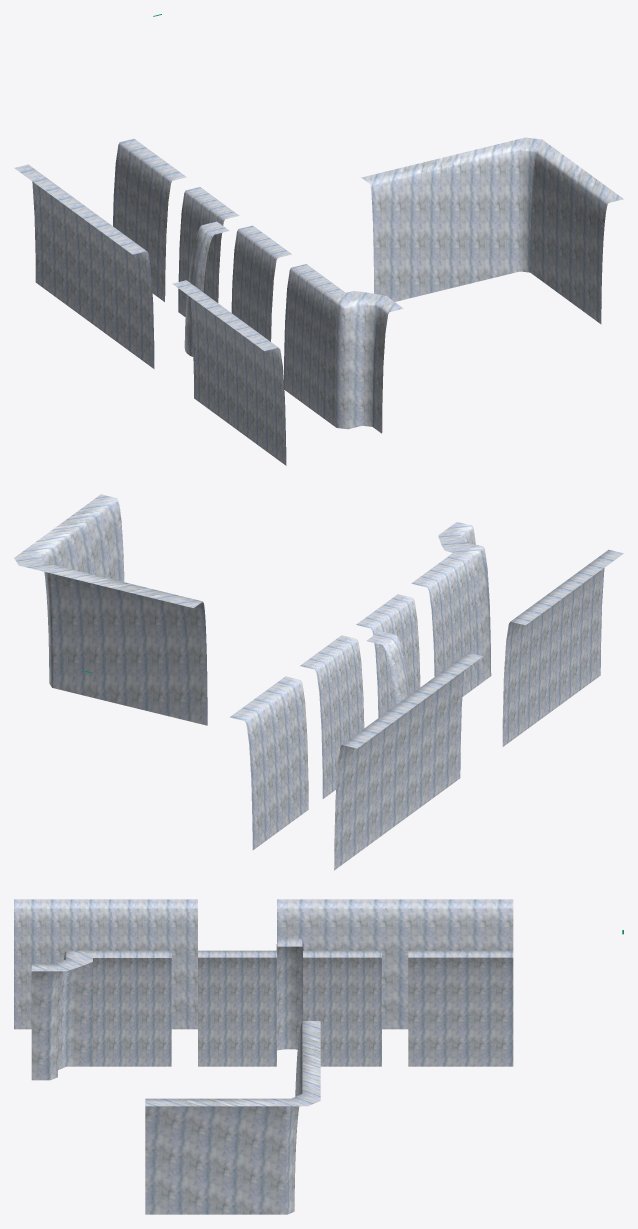
The model's file is Pass2.obj.
3 views of the same model, one above another, from view 1: azimuth 30°, elevation 25°; view 2: azimuth 150°, elevation 25°; view 3: azimuth 270°, elevation 25° (orthographic). The views are drawn at different scales.
Bounding box in the file's own units: 2795 × 1153 × 3481.
Materials: 2 (2 with a texture image).
